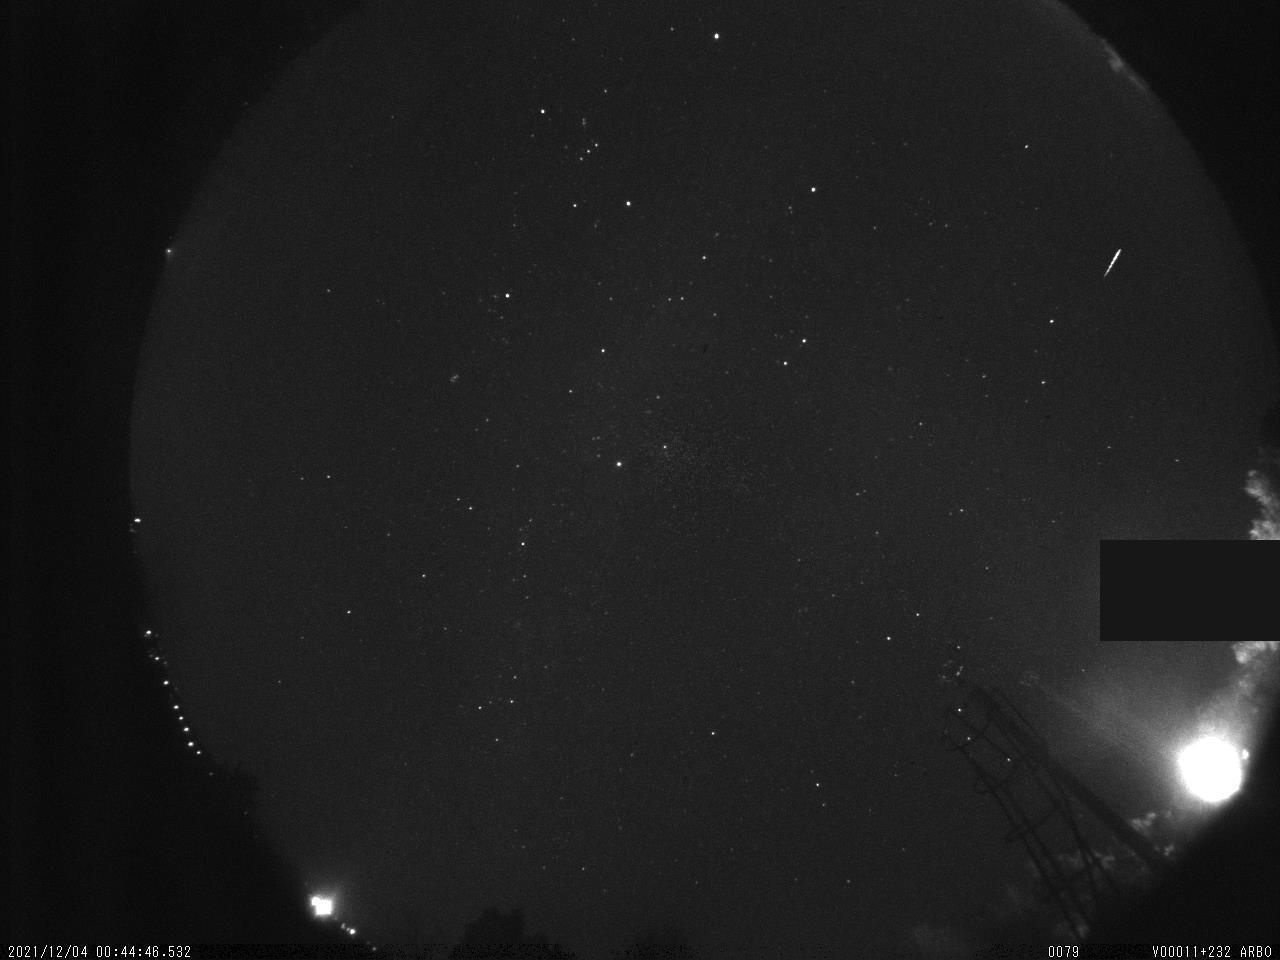Meteor: (1094, 238, 1131, 286)
